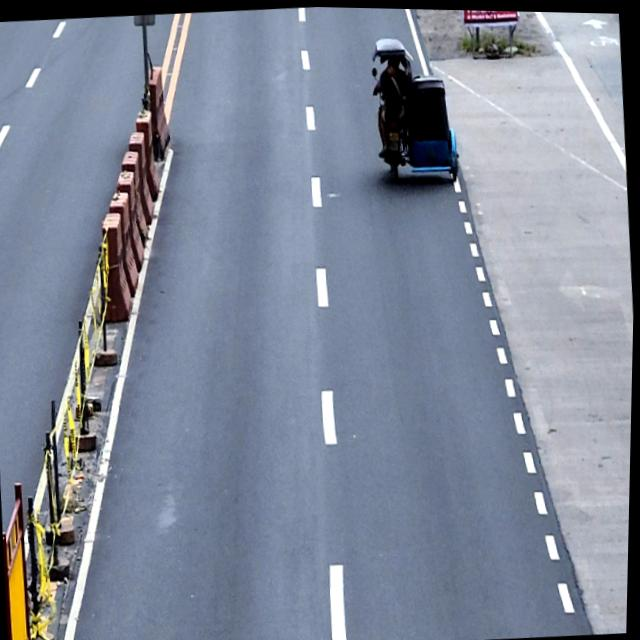License-Plate: (389, 128, 400, 142)
Tricycle: (366, 29, 463, 186)
